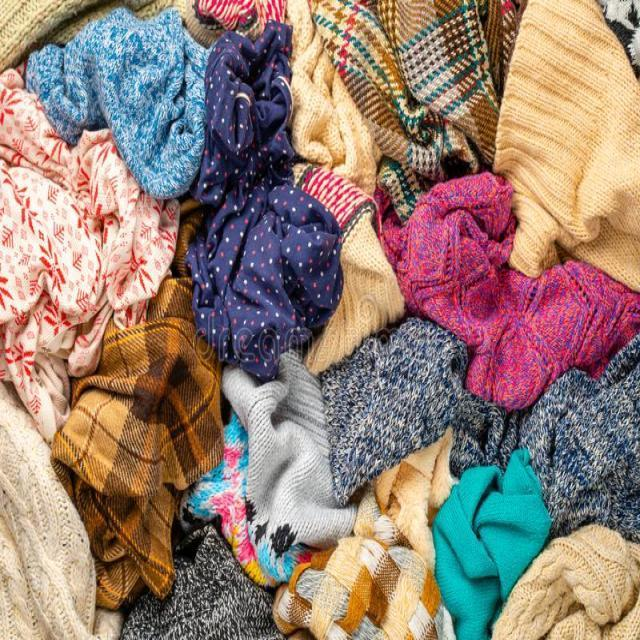clothes: (62, 128, 500, 555)
